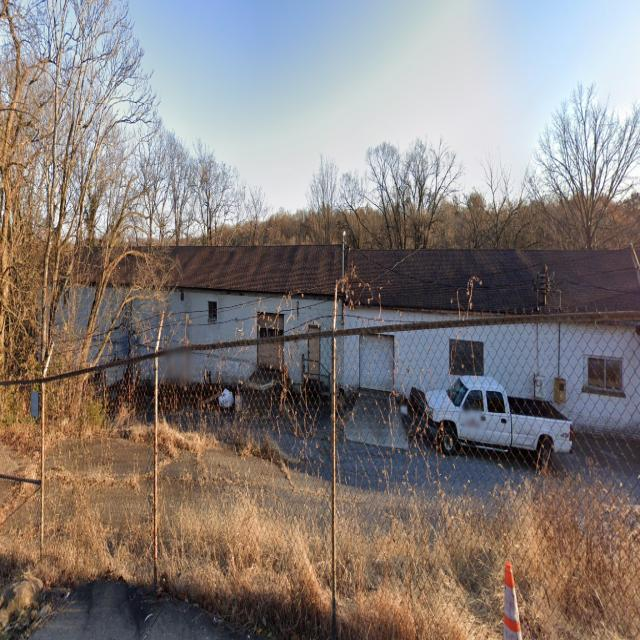House: (33, 226, 639, 432)
